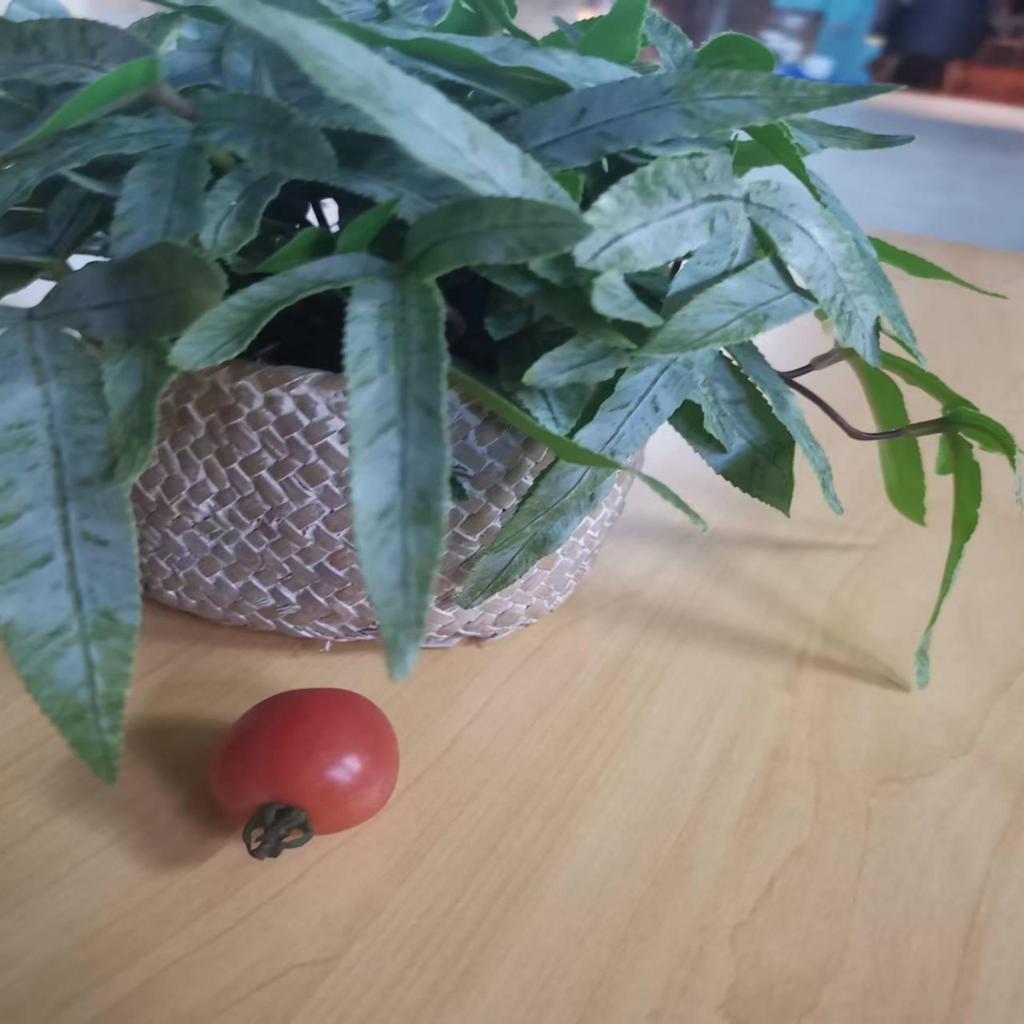tomato: (204, 682, 408, 845)
